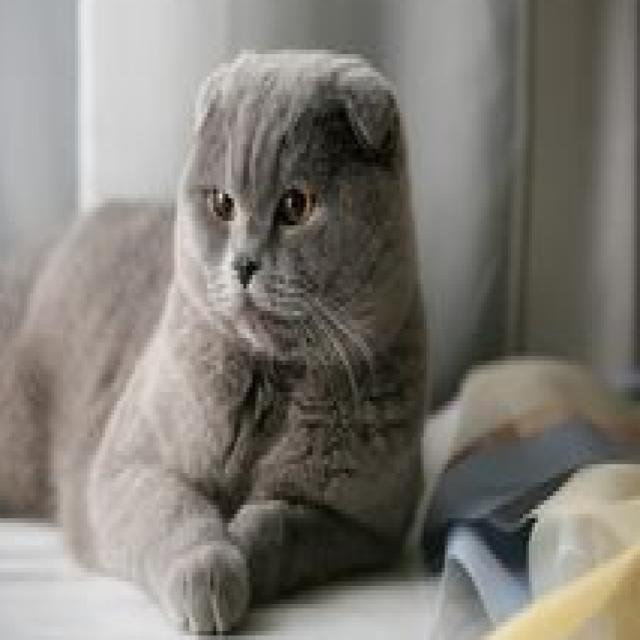Scottish Fold: (0, 40, 429, 640)
